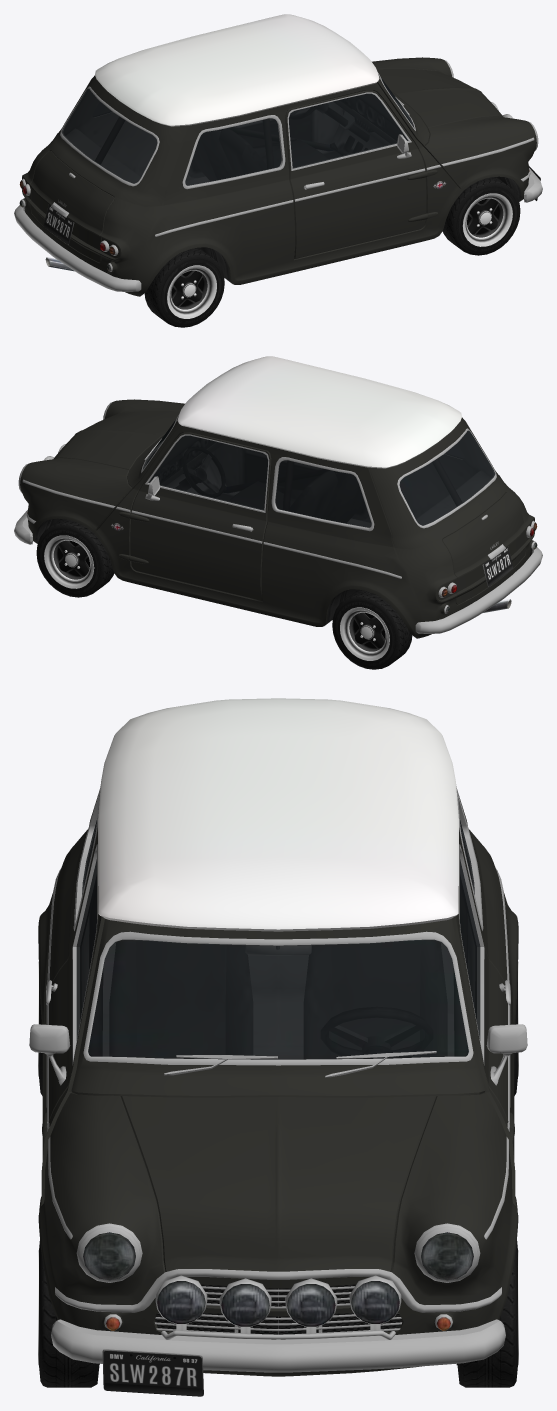
Rendered from lasley.glb.
The picture shows the model from 3 angles, top to bottom: view 1: azimuth 30°, elevation 25°; view 2: azimuth 150°, elevation 25°; view 3: azimuth 270°, elevation 25°; orthographic projection. The views are drawn at different scales.
Visible parts, largest first — view 1: lasley67_Body_lasley67_Bodymat_0, lasley67_Roof_UCB_BOTTOM_0, lasley67_Interior_UCB_Interiors_1_0, lasley67_Bottom_UCB_BOTTOM_0, lasley67_Glass_Passenger_UCB_Lights_and_Glass_Transperent_0, lasley67_Window_rear_UCB_Lights_and_Glass_Transperent_0, lasley67_Trunk_door_lasley67_Bodymat_0, lasley67_Body_Glass_UCB_Lights_and_Glass_Transperent_0, lasley67_WheelStock_RR_RB1c_Tire_1k_0, lasley67_WheelStock_FR_RB1c_Tire_1k_0, lasley67_Hood_lasley67_Bodymat_0, lasley67_Bumper_Rear_UCB_BOTTOM_0 (+2 smaller); view 2: lasley67_Body_lasley67_Bodymat_0, lasley67_Roof_UCB_BOTTOM_0, lasley67_Interior_UCB_Interiors_1_0, lasley67_Bottom_UCB_BOTTOM_0, lasley67_Glass_Driver_UCB_Lights_and_Glass_Transperent_0, lasley67_Window_rear_UCB_Lights_and_Glass_Transperent_0, lasley67_Trunk_door_lasley67_Bodymat_0, lasley67_Body_Glass_UCB_Lights_and_Glass_Transperent_0, lasley67_WheelStock_RL_RB1c_Tire_1k_0, lasley67_WheelStock_FL_RB1c_Tire_1k_0, lasley67_Hood_lasley67_Bodymat_0, lasley67_Bumper_Rear_UCB_BOTTOM_0 (+3 smaller); view 3: lasley67_Roof_UCB_BOTTOM_0, lasley67_Body_lasley67_Bodymat_0, lasley67_Hood_lasley67_Bodymat_0, lasley67_Window_front_UCB_Lights_and_Glass_Transperent_0, lasley67_Interior_UCB_Interiors_1_0, lasley67_Bottom_UCB_BOTTOM_0, lasley67_Bumper_Front_UCB_BOTTOM_0, lasley67_Bumper_Headlights_UCB_Lights_and_Glass_0, lasley67_Numberplate_front_Numberplates_Misk_U_0, lasley67_Headlight_Glass_UCB_Lights_and_Glass_Transperent_0, lasley67_Headlights_UCB_Lights_and_Glass_0, lasley67_WheelStock_FL_RB1c_Tire_1k_0 (+4 smaller).
Part boxes in pixels (bbox=[...]): lasley67_Body_lasley67_Bodymat_0: bbox=[22, 57, 536, 296]; lasley67_Roof_UCB_BOTTOM_0: bbox=[95, 14, 379, 126]; lasley67_Interior_UCB_Interiors_1_0: bbox=[64, 89, 409, 184]; lasley67_Bottom_UCB_BOTTOM_0: bbox=[20, 60, 538, 282]; lasley67_Glass_Passenger_UCB_Lights_and_Glass_Transperent_0: bbox=[288, 93, 408, 168]; lasley67_Window_rear_UCB_Lights_and_Glass_Transperent_0: bbox=[61, 88, 157, 183]; lasley67_Trunk_door_lasley67_Bodymat_0: bbox=[29, 151, 114, 262]; lasley67_Body_Glass_UCB_Lights_and_Glass_Transperent_0: bbox=[93, 102, 281, 185]; lasley67_WheelStock_RR_RB1c_Tire_1k_0: bbox=[144, 247, 224, 327]; lasley67_WheelStock_FR_RB1c_Tire_1k_0: bbox=[442, 177, 520, 255]; lasley67_Hood_lasley67_Bodymat_0: bbox=[376, 69, 503, 128]; lasley67_Bumper_Rear_UCB_BOTTOM_0: bbox=[14, 205, 141, 291]; lasley67_Body_lasley67_Bodymat_0: bbox=[20, 399, 534, 638]; lasley67_Roof_UCB_BOTTOM_0: bbox=[177, 356, 461, 468]; lasley67_Interior_UCB_Interiors_1_0: bbox=[147, 431, 492, 526]; lasley67_Bottom_UCB_BOTTOM_0: bbox=[18, 402, 536, 624]; lasley67_Glass_Driver_UCB_Lights_and_Glass_Transperent_0: bbox=[148, 435, 268, 510]; lasley67_Window_rear_UCB_Lights_and_Glass_Transperent_0: bbox=[399, 430, 495, 525]; lasley67_Trunk_door_lasley67_Bodymat_0: bbox=[442, 493, 527, 604]; lasley67_Body_Glass_UCB_Lights_and_Glass_Transperent_0: bbox=[275, 444, 463, 527]; lasley67_WheelStock_RL_RB1c_Tire_1k_0: bbox=[332, 589, 412, 669]; lasley67_WheelStock_FL_RB1c_Tire_1k_0: bbox=[36, 519, 114, 597]; lasley67_Hood_lasley67_Bodymat_0: bbox=[53, 411, 180, 470]; lasley67_Bumper_Rear_UCB_BOTTOM_0: bbox=[415, 547, 542, 633]; lasley67_Roof_UCB_BOTTOM_0: bbox=[98, 698, 458, 931]; lasley67_Body_lasley67_Bodymat_0: bbox=[38, 789, 518, 1376]; lasley67_Hood_lasley67_Bodymat_0: bbox=[120, 1096, 436, 1271]; lasley67_Window_front_UCB_Lights_and_Glass_Transperent_0: bbox=[88, 939, 468, 1059]; lasley67_Interior_UCB_Interiors_1_0: bbox=[82, 831, 474, 1058]; lasley67_Bottom_UCB_BOTTOM_0: bbox=[29, 786, 527, 1334]; lasley67_Bumper_Front_UCB_BOTTOM_0: bbox=[51, 1275, 505, 1372]; lasley67_Bumper_Headlights_UCB_Lights_and_Glass_0: bbox=[157, 1281, 399, 1326]; lasley67_Numberplate_front_Numberplates_Misk_U_0: bbox=[102, 1349, 203, 1396]; lasley67_Headlight_Glass_UCB_Lights_and_Glass_Transperent_0: bbox=[83, 1232, 473, 1280]; lasley67_Headlights_UCB_Lights_and_Glass_0: bbox=[83, 1233, 473, 1279]; lasley67_WheelStock_FL_RB1c_Tire_1k_0: bbox=[456, 1240, 518, 1387].
Size of the model in its own units: 3.12 by 1.32 by 1.47.
Materials: 8 (7 with a texture image).
